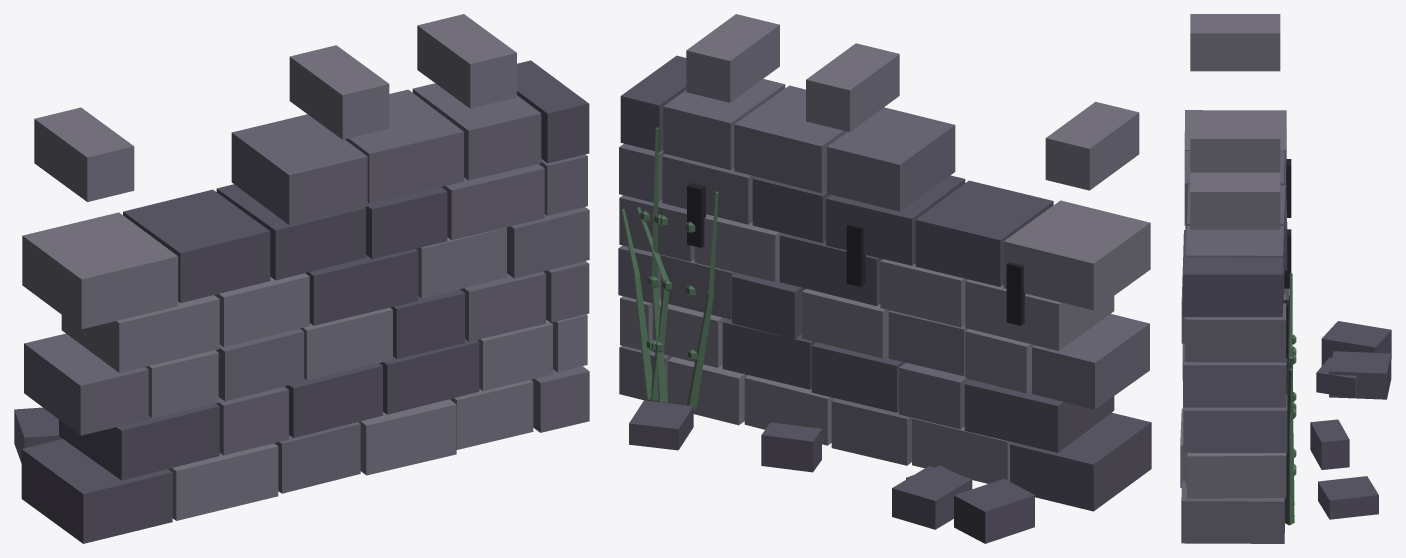
The model's file is castle_wall_0.glb.
3 views of the same model, side by side, from view 1: azimuth 30°, elevation 25°; view 2: azimuth 150°, elevation 25°; view 3: azimuth 270°, elevation 25° (orthographic). The views are drawn at different scales.
Parts seen in each view (by area): view 1: castle_wall_0; view 2: castle_wall_0; view 3: castle_wall_0.
Boxes of the visible parts, x1,y1,x2,y2 form: castle_wall_0: [14, 14, 589, 543]; castle_wall_0: [618, 14, 1151, 543]; castle_wall_0: [1180, 14, 1391, 543].
Size of the model in its own units: 5.97 by 4.31 by 2.54.
